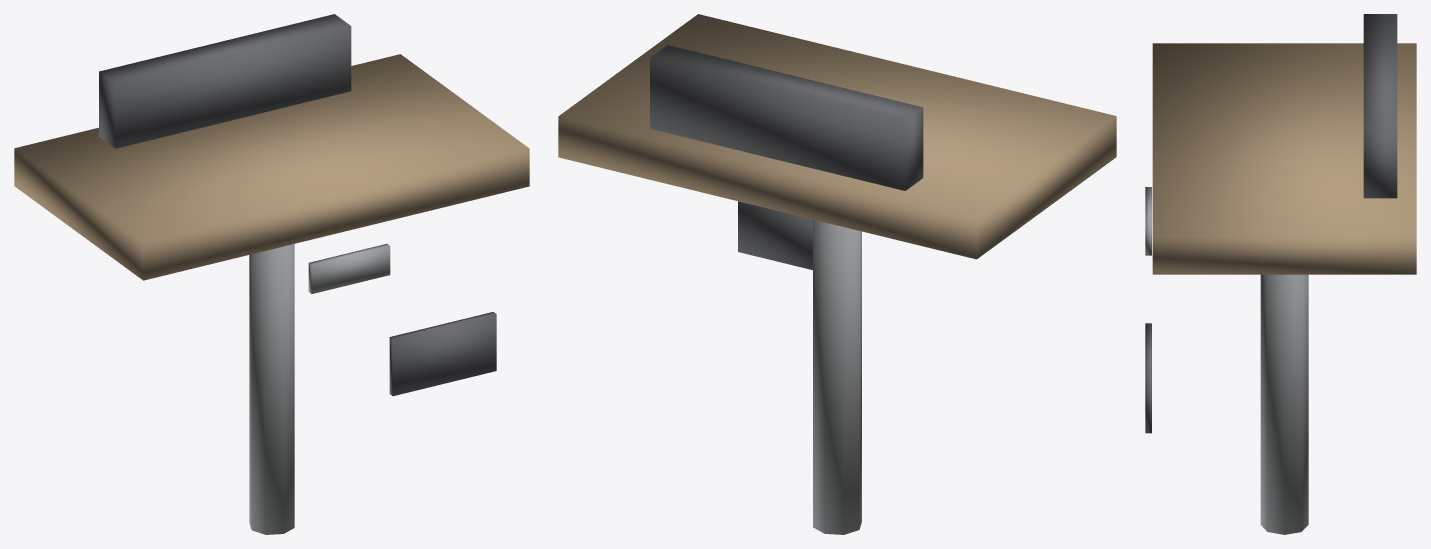
File: deposit_desk__weathered.glb
3 views of the same model, side by side, from view 1: azimuth 30°, elevation 25°; view 2: azimuth 150°, elevation 25°; view 3: azimuth 270°, elevation 25° (orthographic). The views are drawn at different scales.
Parts seen in each view (by area): view 1: world; view 2: world; view 3: world.
Boxes of the visible parts, x1,y1,x2,y2 form: world: (14, 14, 529, 534); world: (558, 14, 1116, 534); world: (1145, 14, 1416, 534).
Bounding box in the file's own units: 0.95 × 1.04 × 0.5649.
